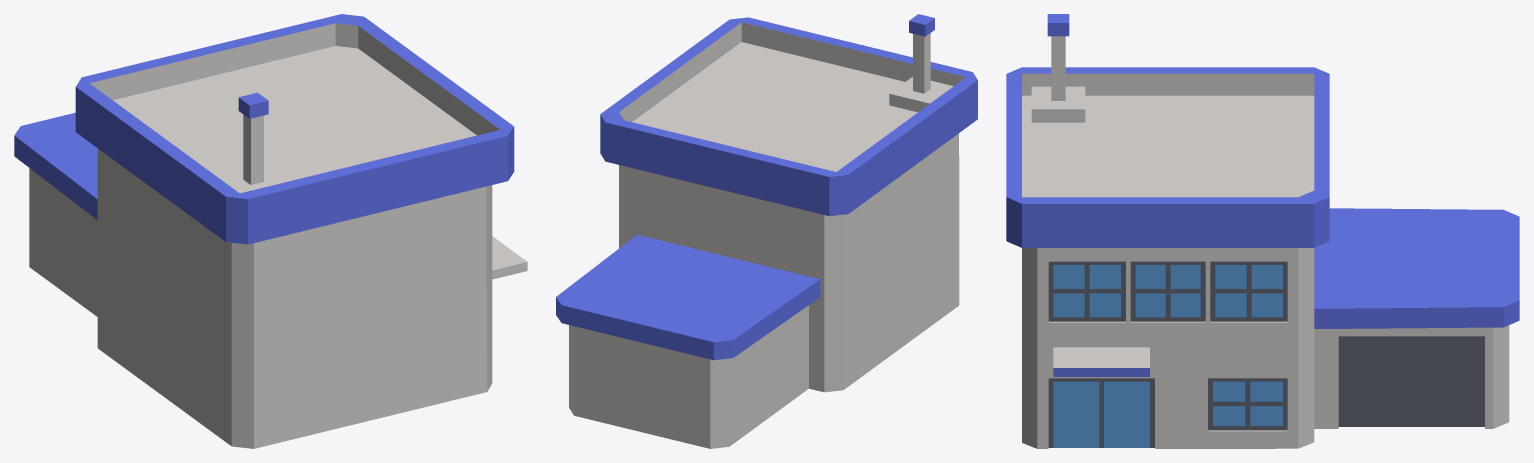
The model's file is Policia.fbx.
The picture shows the model from 3 angles, left to right: view 1: azimuth 30°, elevation 25°; view 2: azimuth 150°, elevation 25°; view 3: azimuth 270°, elevation 25°; orthographic projection. The views are drawn at different scales.
Visible parts, largest first — view 1: Police; view 2: Police; view 3: Police.
Boxes of the visible parts, x1,y1,x2,y2 form: Police: (14, 14, 527, 448); Police: (556, 14, 977, 448); Police: (1006, 14, 1519, 448).
Bounding box in the file's own units: 7318 × 7300 × 10530.
